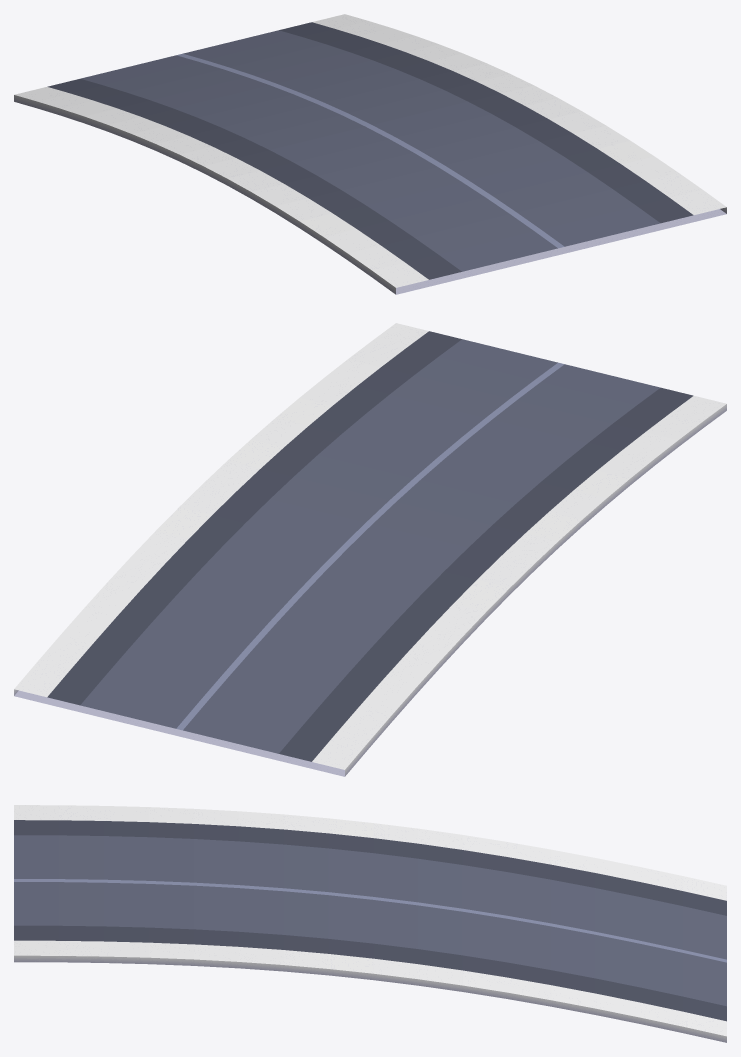
Rendered from road-Straight-Flat-BiSlopeDown-Down1-Center-Size2.glb.
3 renders of one model, top to bottom at view 1: azimuth 30°, elevation 25°; view 2: azimuth 150°, elevation 25°; view 3: azimuth 270°, elevation 25°, orthographic. The views are drawn at different scales.
Parts seen in each view (by area): view 1: road-Straight-Flat-BiSlopeDown-Down1-Center-Size2; view 2: road-Straight-Flat-BiSlopeDown-Down1-Center-Size2; view 3: road-Straight-Flat-BiSlopeDown-Down1-Center-Size2.
Part boxes in pixels (left/top/right/bottom): road-Straight-Flat-BiSlopeDown-Down1-Center-Size2: left=14, top=14, right=726, bottom=294; road-Straight-Flat-BiSlopeDown-Down1-Center-Size2: left=14, top=323, right=726, bottom=776; road-Straight-Flat-BiSlopeDown-Down1-Center-Size2: left=14, top=805, right=726, bottom=1042.
Bounding box in the file's own units: 1 × 0.27 × 2.
1 material, 1 textured.
